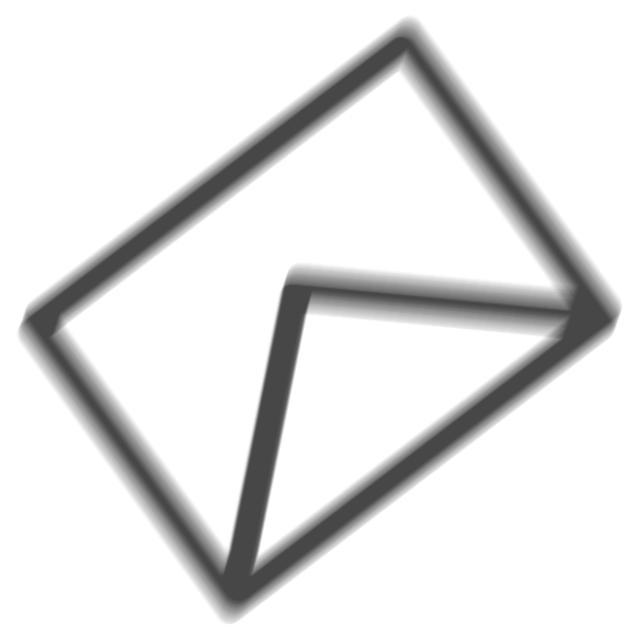letter: (6, 10, 634, 630)
